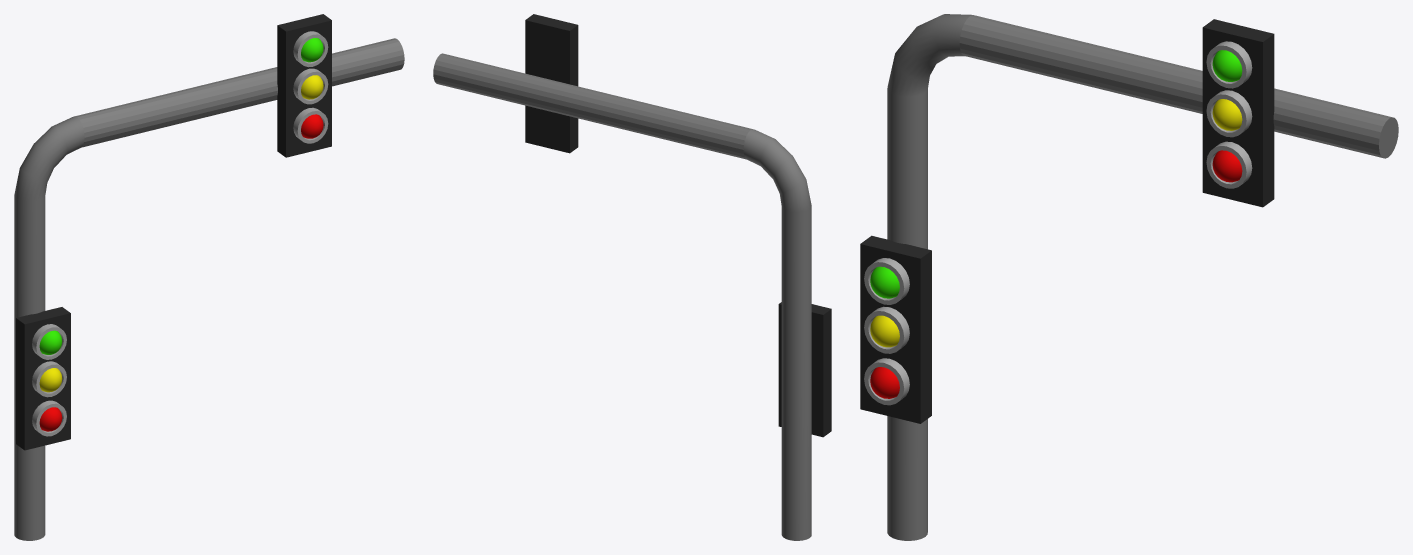
Rendered from LeftsideLight.fbx.
3 renders of one model, left to right at view 1: azimuth 30°, elevation 25°; view 2: azimuth 150°, elevation 25°; view 3: azimuth 330°, elevation 25°, orthographic. The views are drawn at different scales.
Parts seen in each view (by area): view 1: pCylinder3, pCube25, pCube24, pPipe4, pPipe5, pPipe9, pPipe8, pPipe6, pPipe7; view 2: pCylinder3, pCube24, pCube25; view 3: pCylinder3, pCube24, pCube25, pPipe9, pPipe7, pPipe5, pPipe6, pPipe4, pPipe8, pSphere9, pSphere7, pSphere8 (+3 smaller).
Boxes of the visible parts, x1,y1,x2,y2 form: pCylinder3: (14, 38, 404, 540); pCube25: (16, 307, 70, 450); pCube24: (277, 14, 331, 157); pPipe4: (293, 107, 328, 143); pPipe5: (293, 68, 328, 104); pPipe9: (32, 400, 66, 436); pPipe8: (32, 324, 66, 359); pPipe6: (293, 31, 328, 67); pPipe7: (32, 361, 66, 397); pCylinder3: (433, 53, 811, 540); pCube24: (525, 14, 578, 153); pCube25: (778, 302, 831, 437); pCylinder3: (887, 14, 1398, 540); pCube24: (1202, 19, 1274, 207); pCube25: (860, 235, 931, 423); pPipe9: (864, 358, 909, 405); pPipe7: (864, 306, 909, 353); pPipe5: (1206, 90, 1252, 137); pPipe6: (1206, 41, 1252, 88); pPipe4: (1206, 141, 1252, 188); pPipe8: (864, 258, 909, 304); pSphere9: (870, 315, 899, 347); pSphere7: (1212, 150, 1242, 182); pSphere8: (870, 266, 899, 298).
Size of the model in its own units: 13.42 by 15.05 by 1.87.
